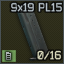PL-15 9x19 16-round magazine: (0, 0, 64, 64)
